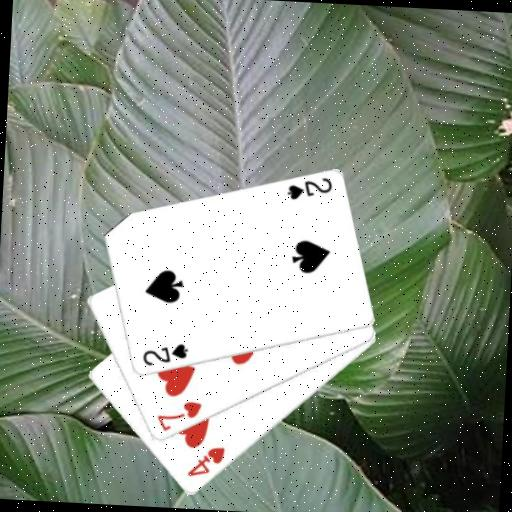2S: (138, 339, 189, 370), (283, 173, 334, 204)
4H: (184, 442, 227, 481)
7H: (153, 397, 204, 436)
